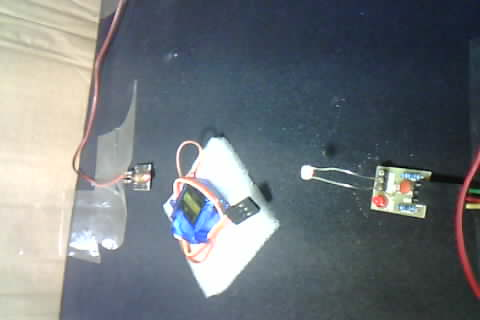motor: (156, 140, 261, 282)
